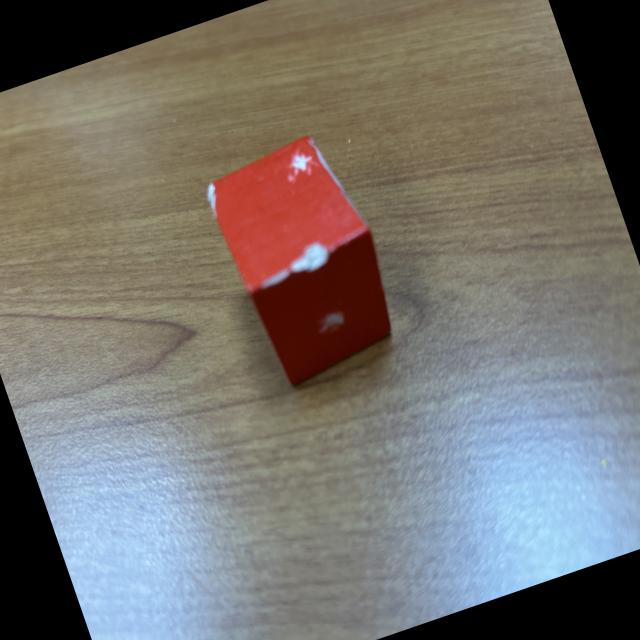broken: (196, 124, 412, 393)
